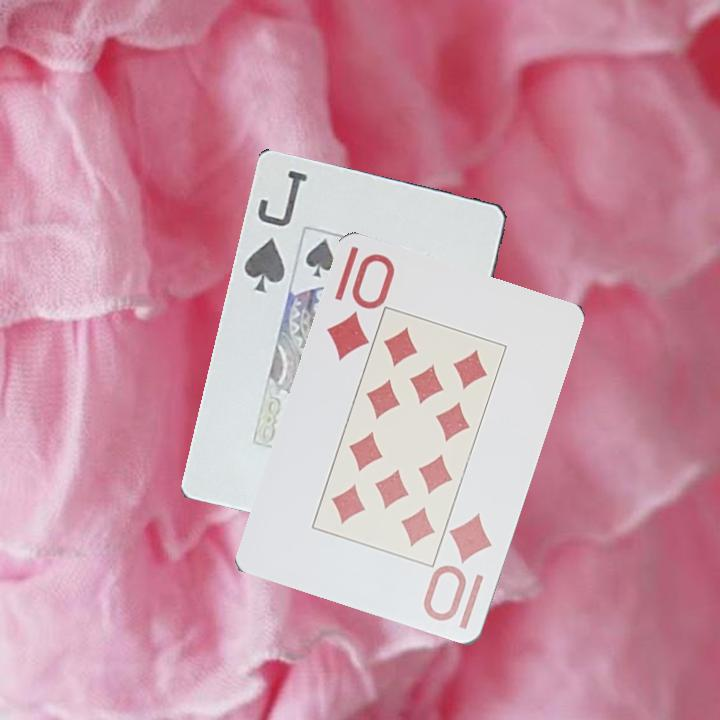Js: (240, 167, 311, 297)
Td: (322, 243, 397, 364), (423, 510, 496, 633)
